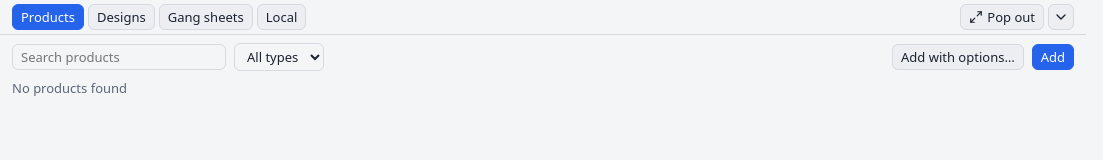
LibraryDrawer › collapse hides the content but keeps the tab bar; a tab click expands again
The image size is (1103, 160).
Click the button named "Collapse library": (1061, 17) [1048,4,1074,30]
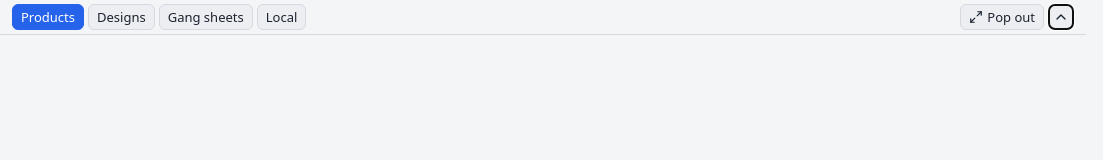
Expected: the field labelled "Search products" is not shown
Click the tab "Local": (282, 17) [257,4,306,30]
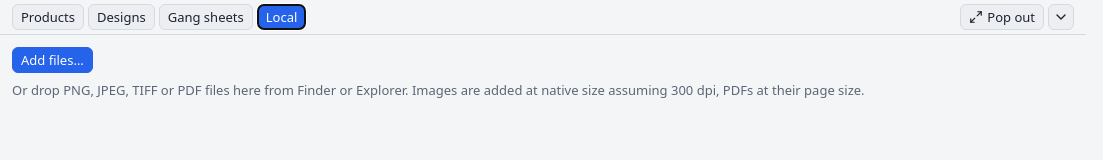
Result: the button "Add files…" is shown at [12,47,93,73]
Result: the button named "Collapse library" is shown at [1048,4,1074,30]
